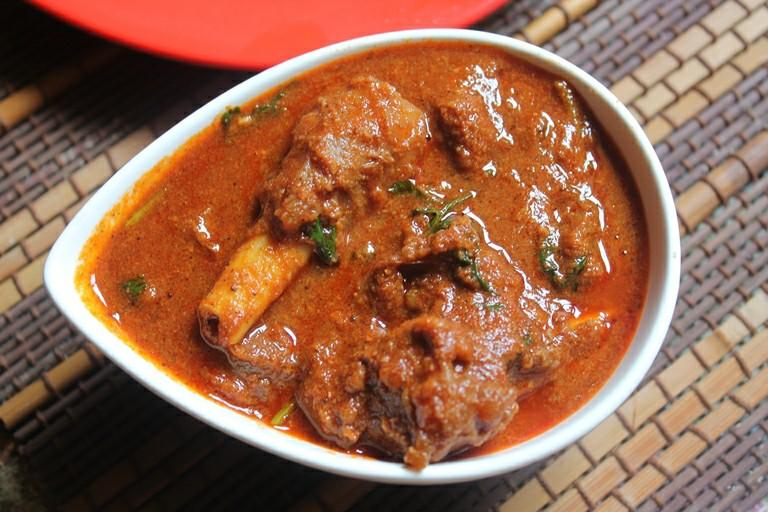MuttonCurry: (93, 40, 648, 472)
